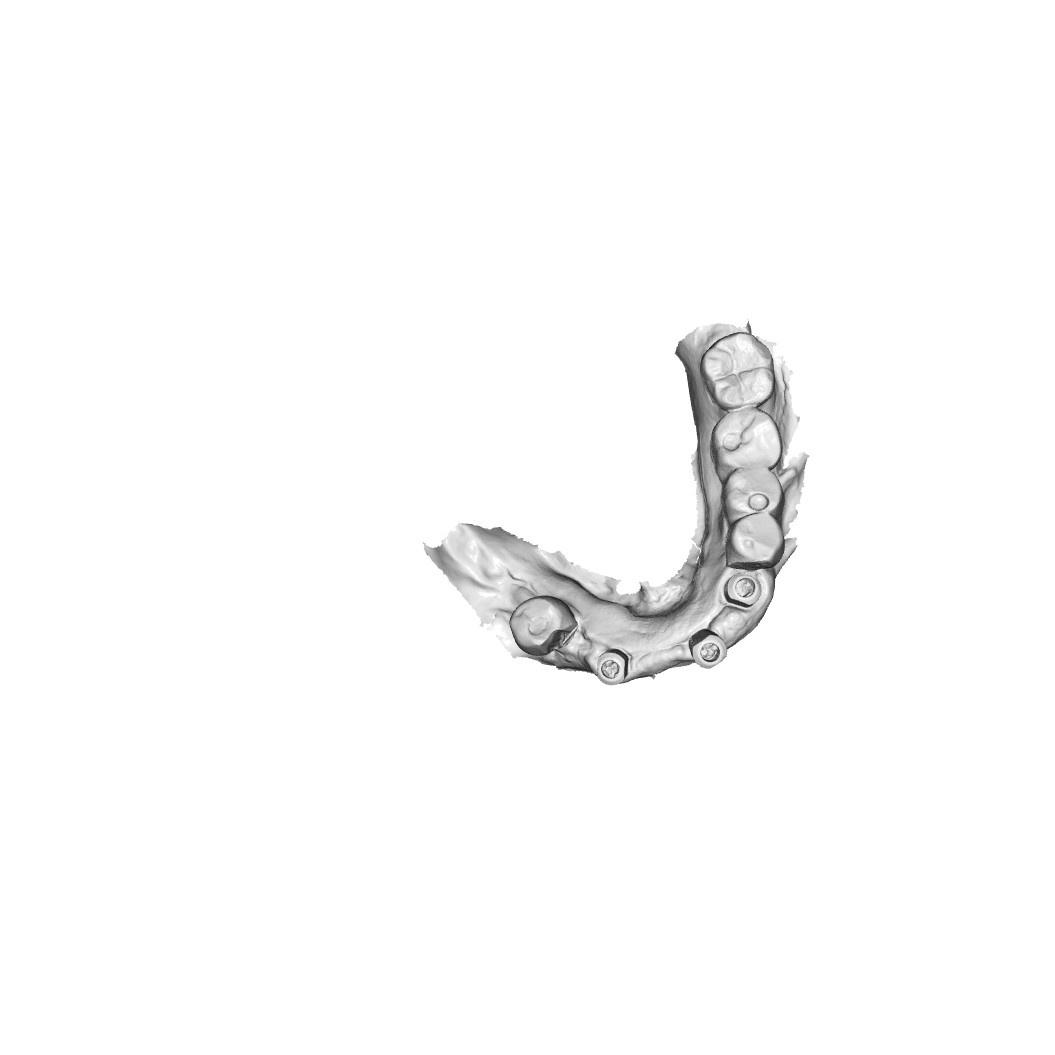implant: (688, 628, 728, 670), (723, 571, 762, 608), (596, 647, 630, 687)
molar: (699, 331, 776, 412), (709, 407, 783, 485)
premolar: (508, 595, 580, 657), (722, 468, 786, 526), (725, 512, 786, 572)
